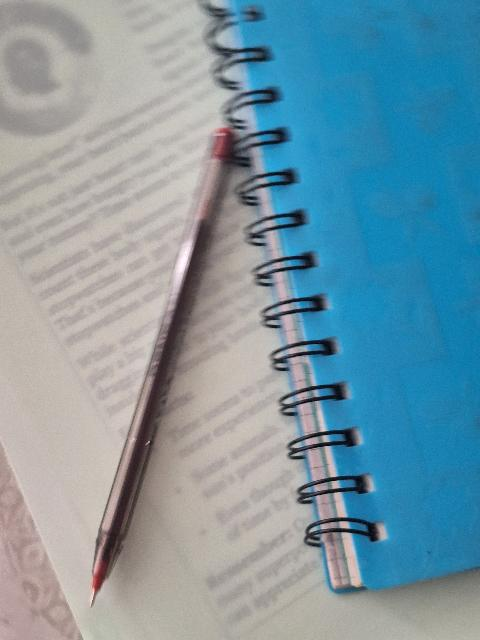writing_tool: (82, 118, 237, 602)
